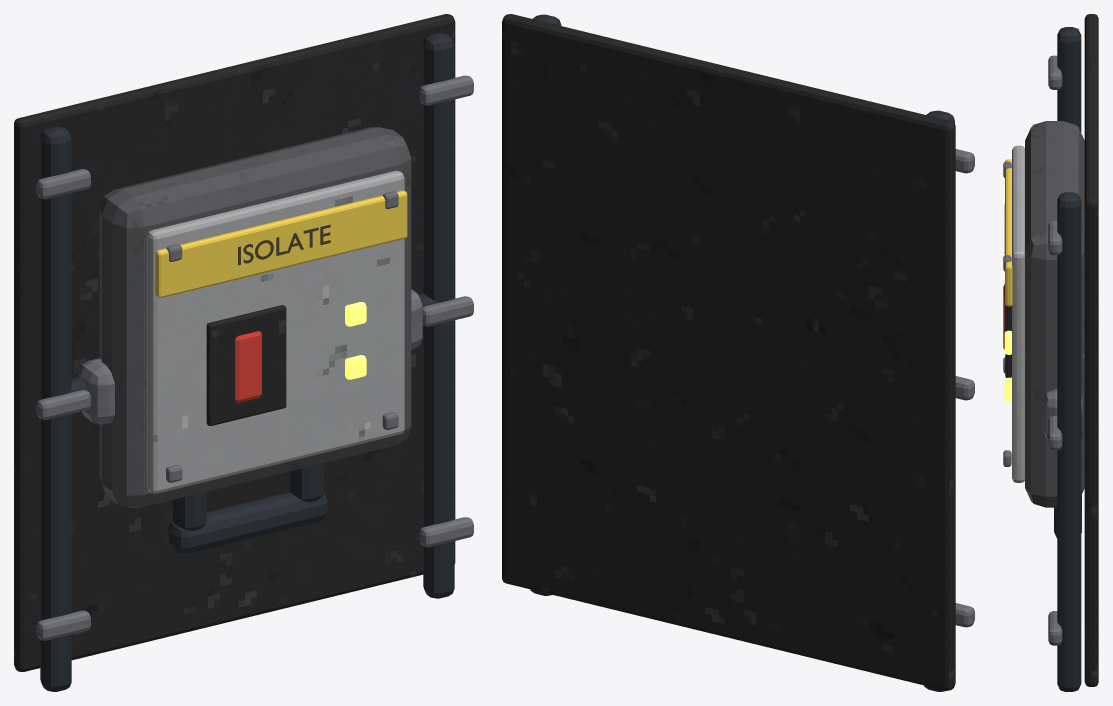
File: decor_eng_cable_junction.glb
The picture shows the model from 3 angles, left to right: view 1: azimuth 30°, elevation 25°; view 2: azimuth 150°, elevation 25°; view 3: azimuth 270°, elevation 25°; orthographic projection. The views are drawn at different scales.
Visible parts, largest first — view 1: DEC_EngCableJunction__Mount_Rail, DEC_EngCableJunction__Access_Door, DEC_EngCableJunction__Junction_Box, DEC_EngCableJunction__Cable_Run_0, DEC_EngCableJunction__Cable_Run_1, DEC_EngCableJunction__Isolation_Band, DEC_EngCableJunction__Switch_Recess, DEC_EngCableJunction__Bottom_Cable_Trunk, DEC_EngCableJunction__Switch_Lever, DEC_EngCableJunction__Cable_Gland_0, DEC_EngCableJunction__Conduit_Clamp_0_0.6, DEC_EngCableJunction__Conduit_Clamp_1_0.6 (+7 smaller); view 2: DEC_EngCableJunction__Mount_Rail; view 3: DEC_EngCableJunction__Junction_Box, DEC_EngCableJunction__Cable_Run_1, DEC_EngCableJunction__Mount_Rail, DEC_EngCableJunction__Access_Door, DEC_EngCableJunction__Cable_Run_0, DEC_EngCableJunction__Isolation_Band, DEC_EngCableJunction__Cable_Gland_1, DEC_EngCableJunction__Conduit_Clamp_1_1.14, DEC_EngCableJunction__Conduit_Clamp_1_1.68, DEC_EngCableJunction__Conduit_Clamp_0_1.68, DEC_EngCableJunction__Conduit_Clamp_1_0.6, DEC_EngCableJunction__Switch_Recess (+2 smaller).
Boxes of the visible parts, bbox=[...] form: DEC_EngCableJunction__Mount_Rail: bbox=[14, 14, 455, 671]; DEC_EngCableJunction__Access_Door: bbox=[147, 170, 404, 493]; DEC_EngCableJunction__Junction_Box: bbox=[99, 127, 411, 507]; DEC_EngCableJunction__Cable_Run_0: bbox=[40, 126, 71, 691]; DEC_EngCableJunction__Cable_Run_1: bbox=[423, 33, 454, 598]; DEC_EngCableJunction__Isolation_Band: bbox=[155, 190, 407, 298]; DEC_EngCableJunction__Switch_Recess: bbox=[206, 305, 286, 425]; DEC_EngCableJunction__Bottom_Cable_Trunk: bbox=[168, 492, 327, 553]; DEC_EngCableJunction__Switch_Lever: bbox=[235, 331, 261, 402]; DEC_EngCableJunction__Cable_Gland_0: bbox=[79, 358, 114, 424]; DEC_EngCableJunction__Conduit_Clamp_0_0.6: bbox=[36, 610, 90, 640]; DEC_EngCableJunction__Conduit_Clamp_1_0.6: bbox=[419, 517, 473, 547]; DEC_EngCableJunction__Mount_Rail: bbox=[502, 14, 955, 690]; DEC_EngCableJunction__Junction_Box: bbox=[1025, 121, 1084, 507]; DEC_EngCableJunction__Cable_Run_1: bbox=[1057, 192, 1081, 691]; DEC_EngCableJunction__Mount_Rail: bbox=[1084, 14, 1098, 686]; DEC_EngCableJunction__Access_Door: bbox=[1012, 145, 1024, 482]; DEC_EngCableJunction__Cable_Run_0: bbox=[1057, 27, 1081, 132]; DEC_EngCableJunction__Isolation_Band: bbox=[1005, 159, 1012, 306]; DEC_EngCableJunction__Cable_Gland_1: bbox=[1043, 389, 1082, 439]; DEC_EngCableJunction__Conduit_Clamp_1_1.14: bbox=[1048, 416, 1062, 450]; DEC_EngCableJunction__Conduit_Clamp_1_1.68: bbox=[1048, 220, 1062, 254]; DEC_EngCableJunction__Conduit_Clamp_0_1.68: bbox=[1048, 55, 1062, 89]; DEC_EngCableJunction__Conduit_Clamp_1_0.6: bbox=[1048, 611, 1062, 645]; DEC_EngCableJunction__Switch_Recess: bbox=[1005, 305, 1011, 377].
Bounding box in the file's own units: 1.12 × 1.38 × 0.2395.
Materials: 9 (4 with a texture image).
